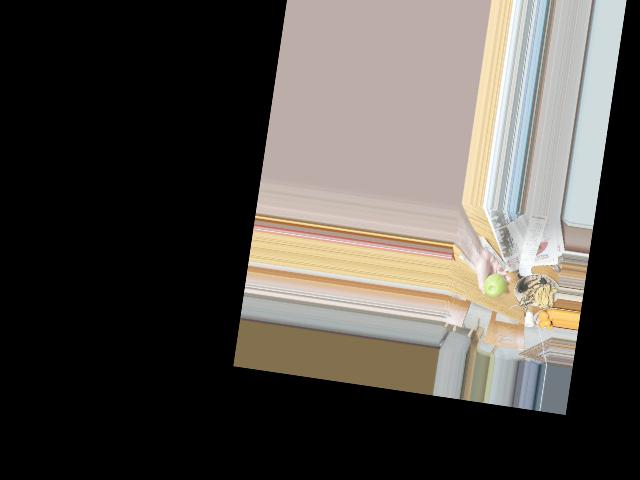apple: (481, 271, 508, 299)
